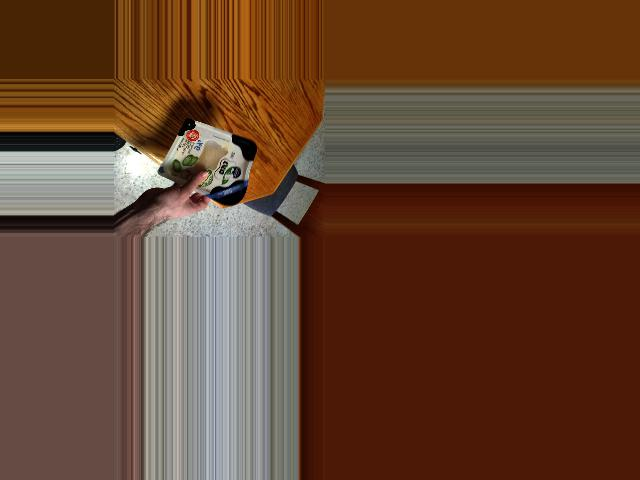cheese: (174, 122, 261, 202)
